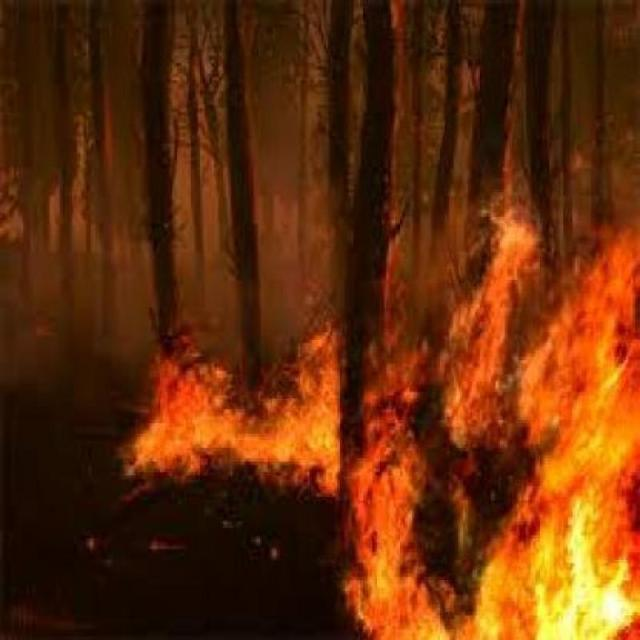Fire: (351, 233, 638, 640), (92, 316, 338, 514)
